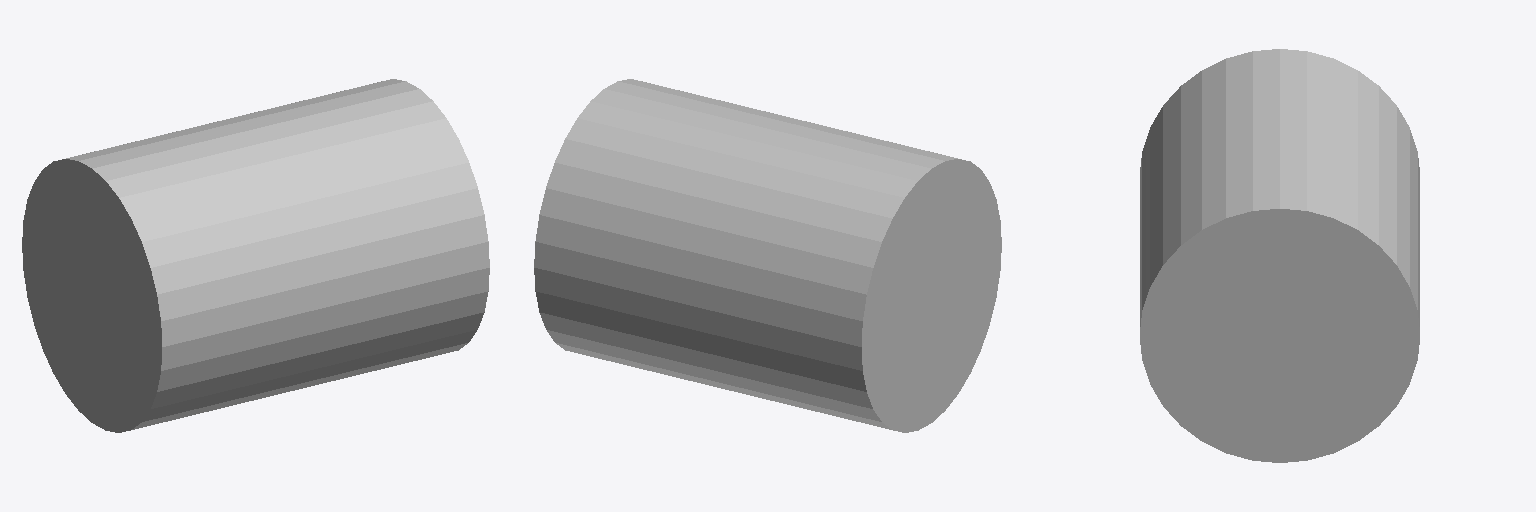
Rendered from folgers_classic_roast_coffee.obj.
3 renders of one model, left to right at view 1: azimuth 30°, elevation 25°; view 2: azimuth 150°, elevation 25°; view 3: azimuth 270°, elevation 25°, orthographic.
Bounding box in the file's own units: 0.14 × 0.104 × 0.104.